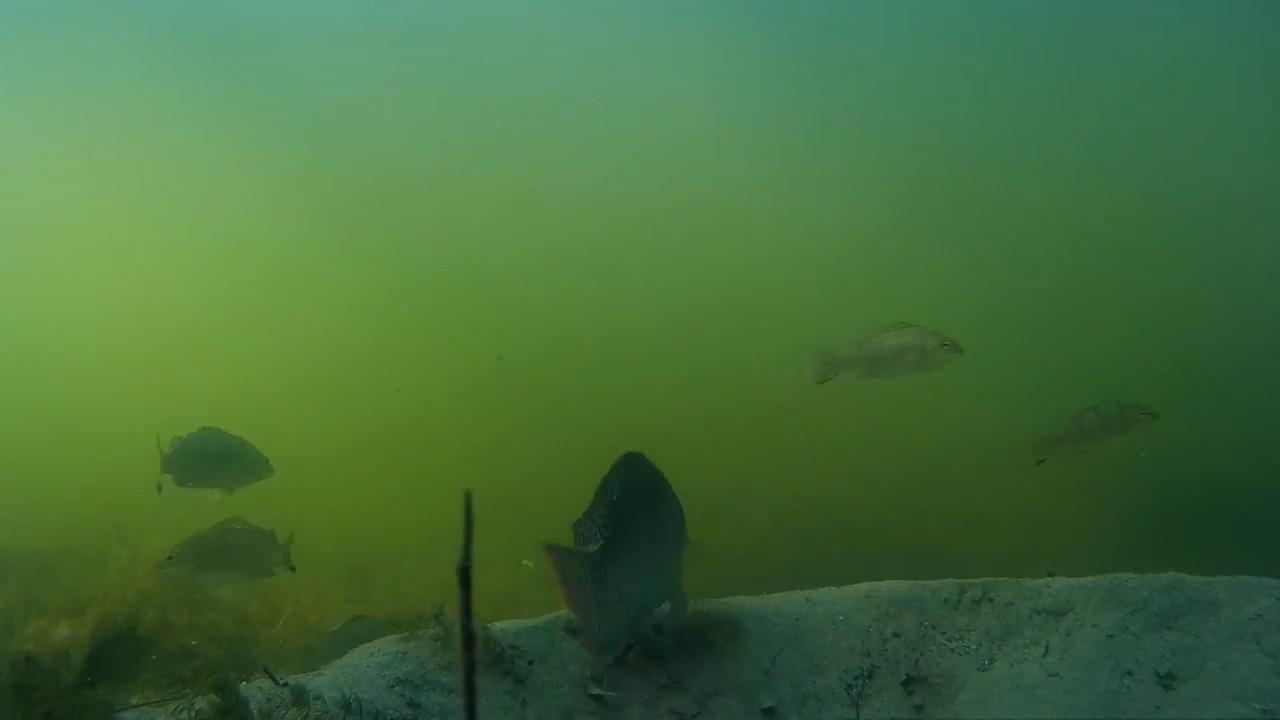Tilapia: (552, 450, 689, 670), (141, 518, 305, 602), (803, 322, 970, 396), (146, 419, 278, 501), (1030, 393, 1158, 471)
